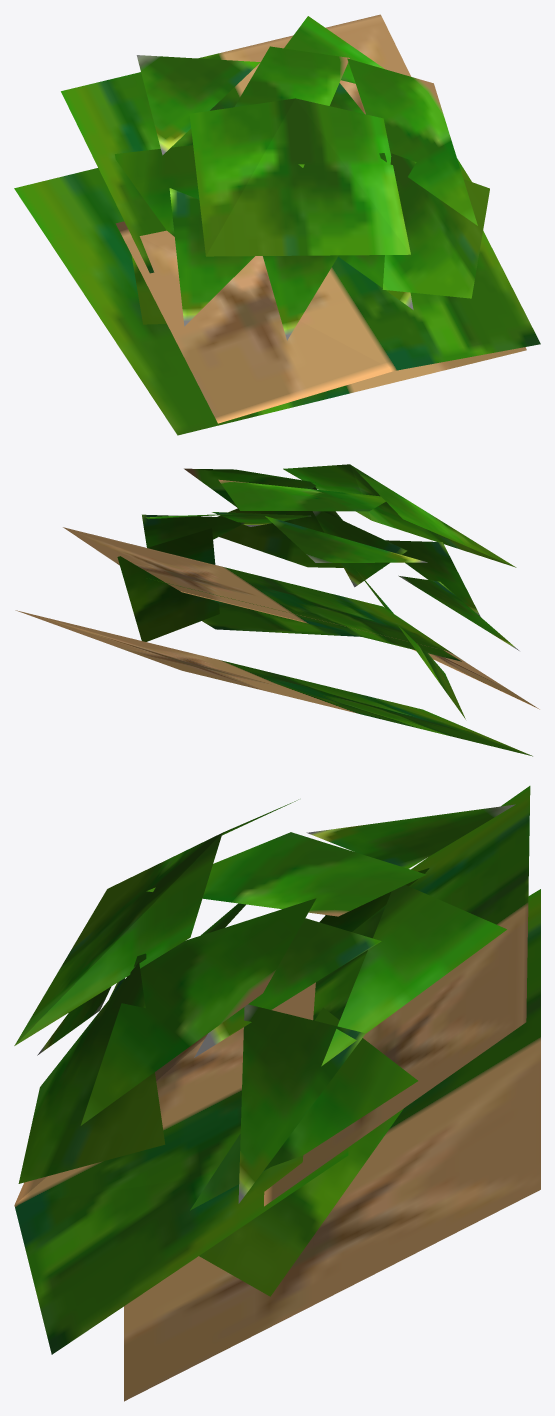
Rendered from fg_bushC_2_pi.dae.
3 views of the same model, one above another, from view 1: azimuth 30°, elevation 25°; view 2: azimuth 150°, elevation 25°; view 3: azimuth 270°, elevation 25° (orthographic). The views are drawn at different scales.
Parts seen in each view (by area): view 1: fg_bushC_2_pi; view 2: fg_bushC_2_pi; view 3: fg_bushC_2_pi.
Part boxes in pixels (bbox=[...]): fg_bushC_2_pi: bbox=[14, 14, 540, 435]; fg_bushC_2_pi: bbox=[15, 464, 539, 756]; fg_bushC_2_pi: bbox=[14, 786, 540, 1401].
Bounding box in the file's own units: 47.83 × 31.21 × 35.4.
Materials: 1 (1 with a texture image).
